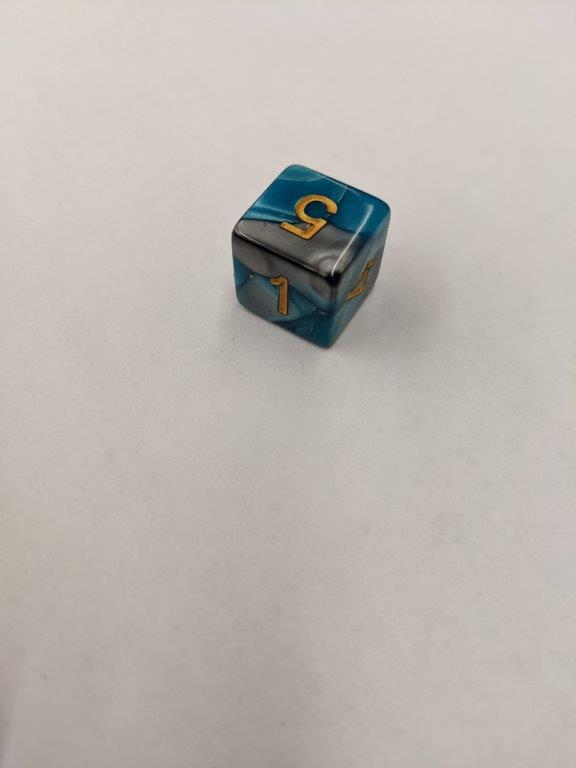d6-5: (231, 163, 390, 348)
